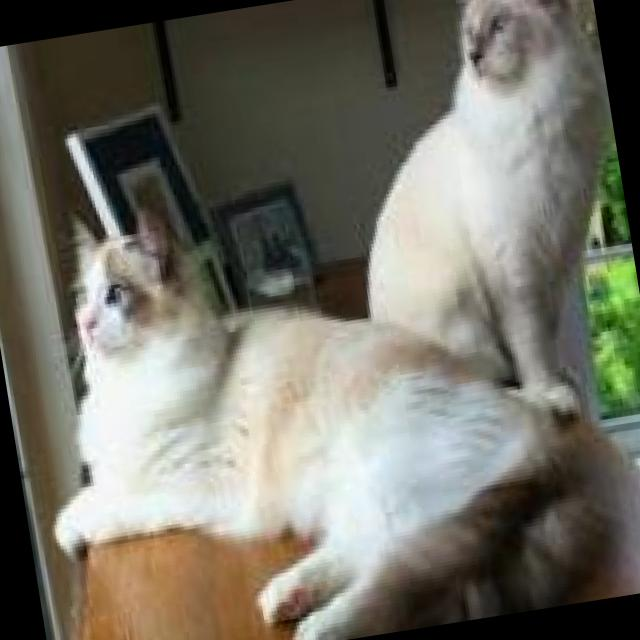Gato: (0, 118, 638, 640), (317, 0, 640, 446)
